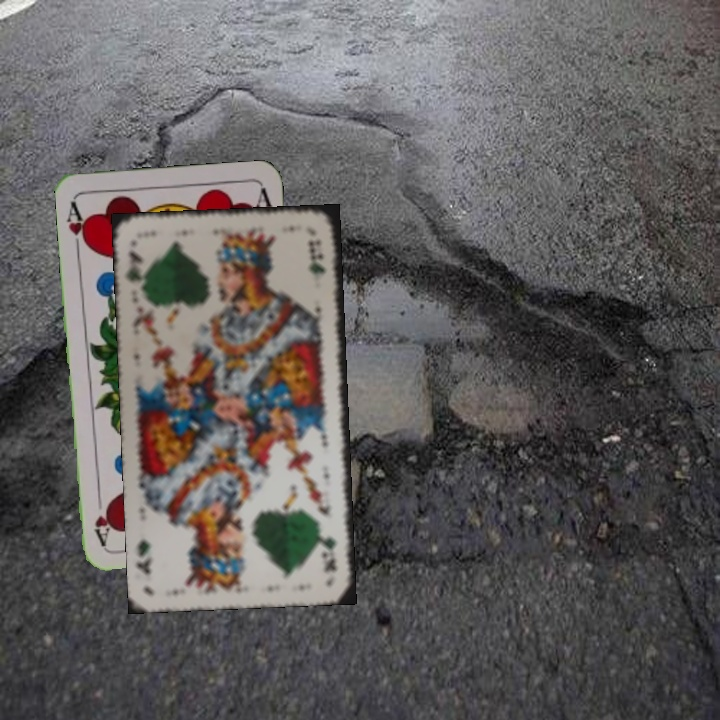GK: (318, 531, 341, 576), (121, 246, 145, 284)
HA: (63, 197, 92, 256)
